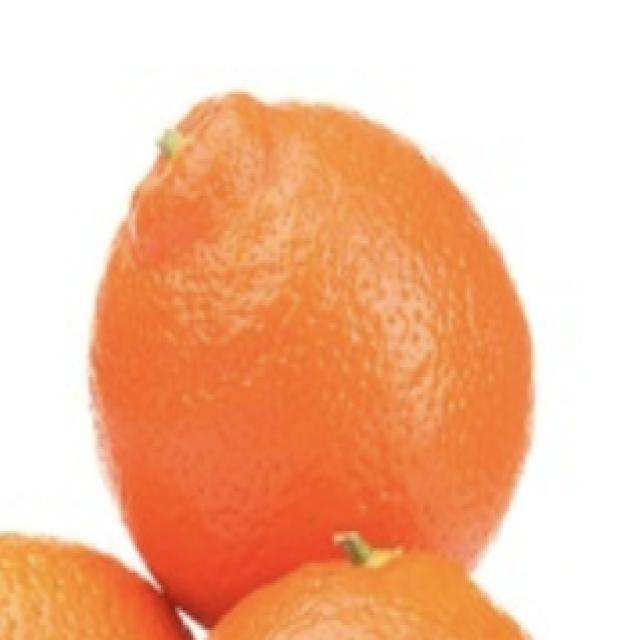orange: (74, 77, 542, 578)
